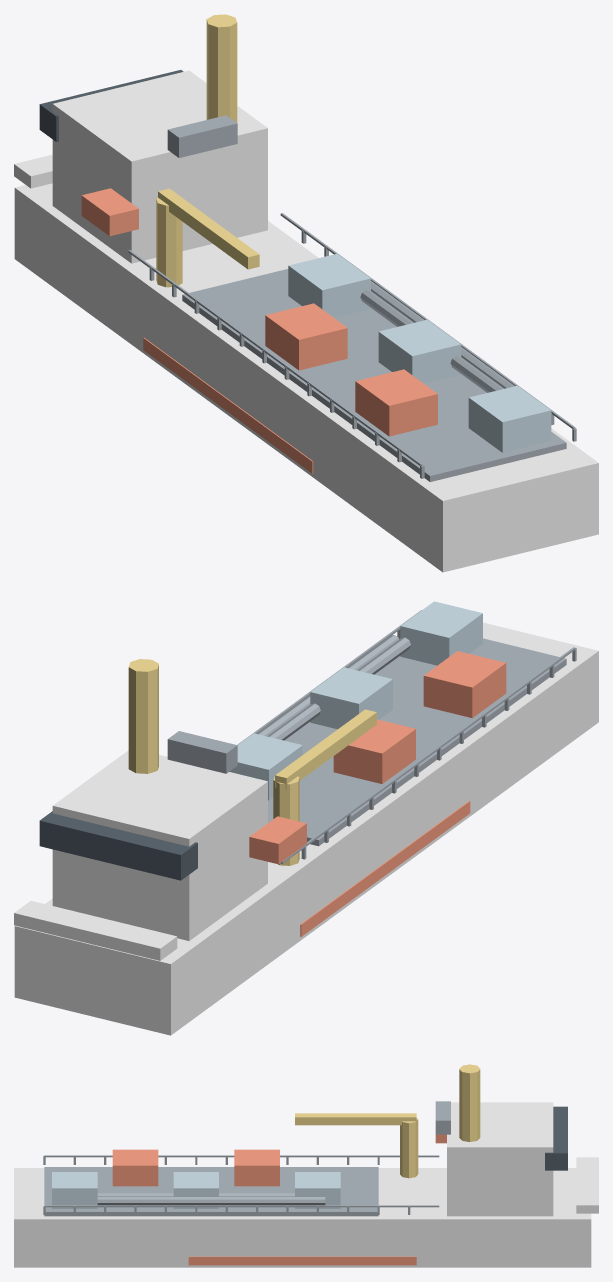
The model's file is psv.glb.
The picture shows the model from 3 angles, top to bottom: view 1: azimuth 30°, elevation 25°; view 2: azimuth 150°, elevation 25°; view 3: azimuth 270°, elevation 25°; orthographic projection. The views are drawn at different scales.
Parts seen in each view (by area): view 1: hull, bridge, deck, cargo0, cargo3, cargo1, cargo2, cargo4, Cylinder, boottop, crane_jib, radar_bar (+8 smaller); view 2: hull, bridge, deck, windows, bow_bulwark, cargo1, cargo0, cargo3, cargo2, Cylinder, cargo4, boottop (+7 smaller); view 3: hull, bridge, deck, boottop, Cylinder.002, cargo1, cargo3, Cylinder, cargo0, crane_jib, cargo4, bow_bulwark (+7 smaller).
Boxes of the visible parts, <box> form: hull: <box>14,183,598,572</box>; bridge: <box>52,70,267,263</box>; deck: <box>182,269,566,481</box>; cargo0: <box>468,385,551,452</box>; cargo3: <box>265,303,347,370</box>; cargo1: <box>355,369,437,436</box>; cargo2: <box>378,319,461,383</box>; cargo4: <box>288,254,370,317</box>; Cylinder: <box>206,14,237,122</box>; boottop: <box>143,337,313,473</box>; crane_jib: <box>158,188,259,269</box>; radar_bar: <box>167,115,237,157</box>; hull: <box>14,622,598,1035</box>; bridge: <box>52,750,267,940</box>; deck: <box>268,638,566,846</box>; windows: <box>39,811,197,880</box>; bow_bulwark: <box>14,900,177,960</box>; cargo1: <box>423,651,506,718</box>; cargo0: <box>400,601,482,665</box>; cargo3: <box>333,719,415,783</box>; cargo2: <box>310,667,392,729</box>; Cylinder: <box>128,659,158,773</box>; cargo4: <box>229,733,302,800</box>; boottop: <box>300,801,470,936</box>; hull: <box>14,1168,591,1267</box>; bridge: <box>447,1102,553,1216</box>; deck: <box>44,1167,378,1216</box>; boottop: <box>188,1256,416,1265</box>; Cylinder.002: <box>97,1197,325,1205</box>; cargo1: <box>112,1149,158,1186</box>; cargo3: <box>234,1149,279,1186</box>; Cylinder: <box>459,1064,480,1141</box>; cargo0: <box>52,1172,97,1208</box>; crane_jib: <box>295,1113,416,1125</box>; cargo4: <box>295,1172,340,1208</box>; bow_bulwark: <box>576,1157,598,1213</box>.
Size of the model in its own units: 18.2 by 27 by 77.
